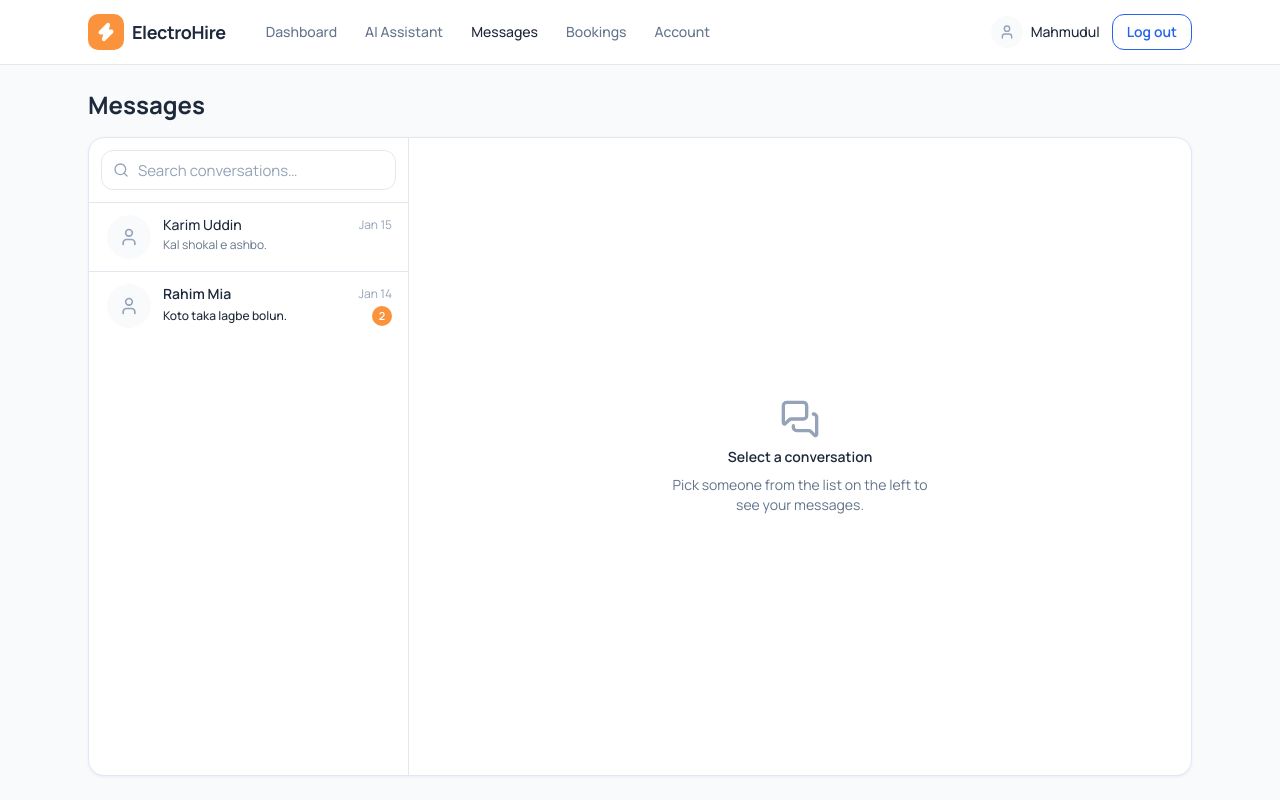
ChatsPage › sends a message and clears the composer
Click the button "Karim Uddin Jan 15 Kal shokal e ashbo.": click(248, 237) x1=89 y1=203 x2=408 y2=271
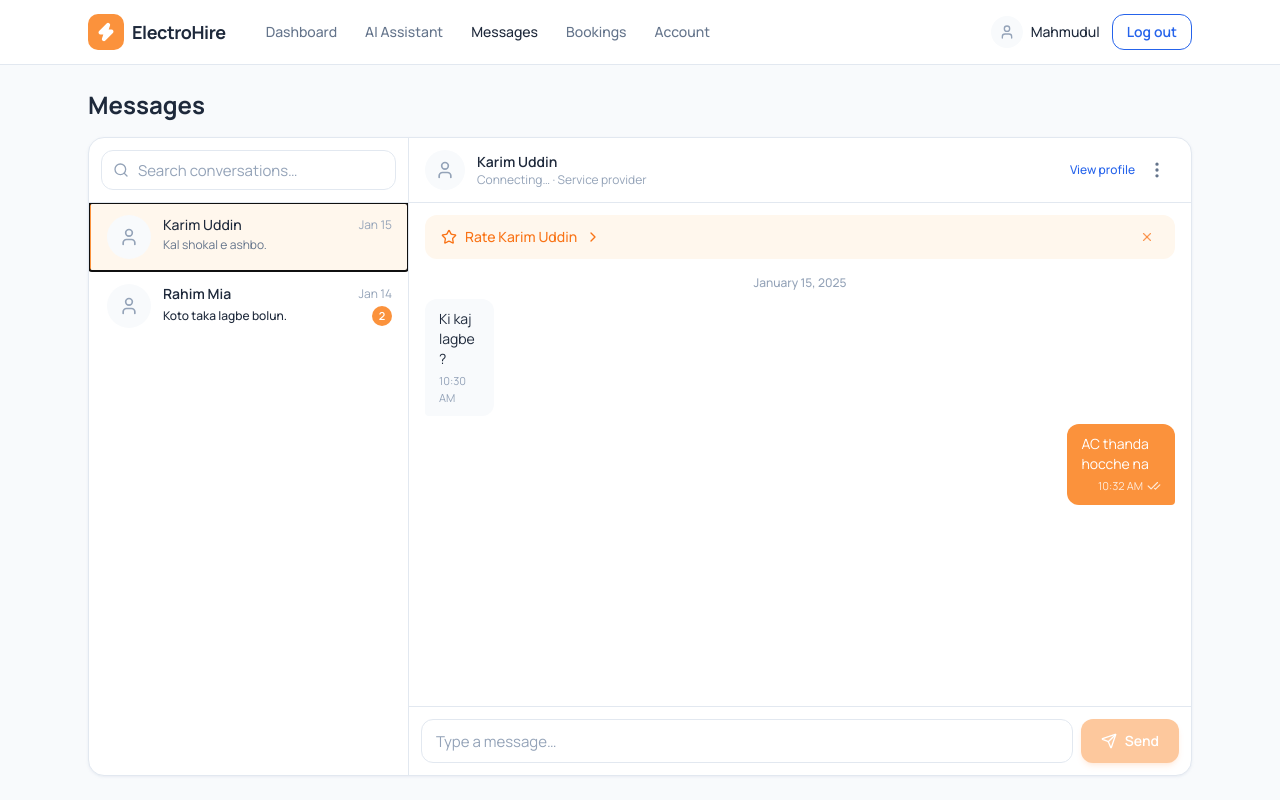
Check: the text "Ki kaj lagbe?" is shown, box x1=439 y1=309 x2=480 y2=369
In the field with placeholder "Type a message…": (747, 741) x1=421 y1=719 x2=1073 y2=763, type "Thank you!"
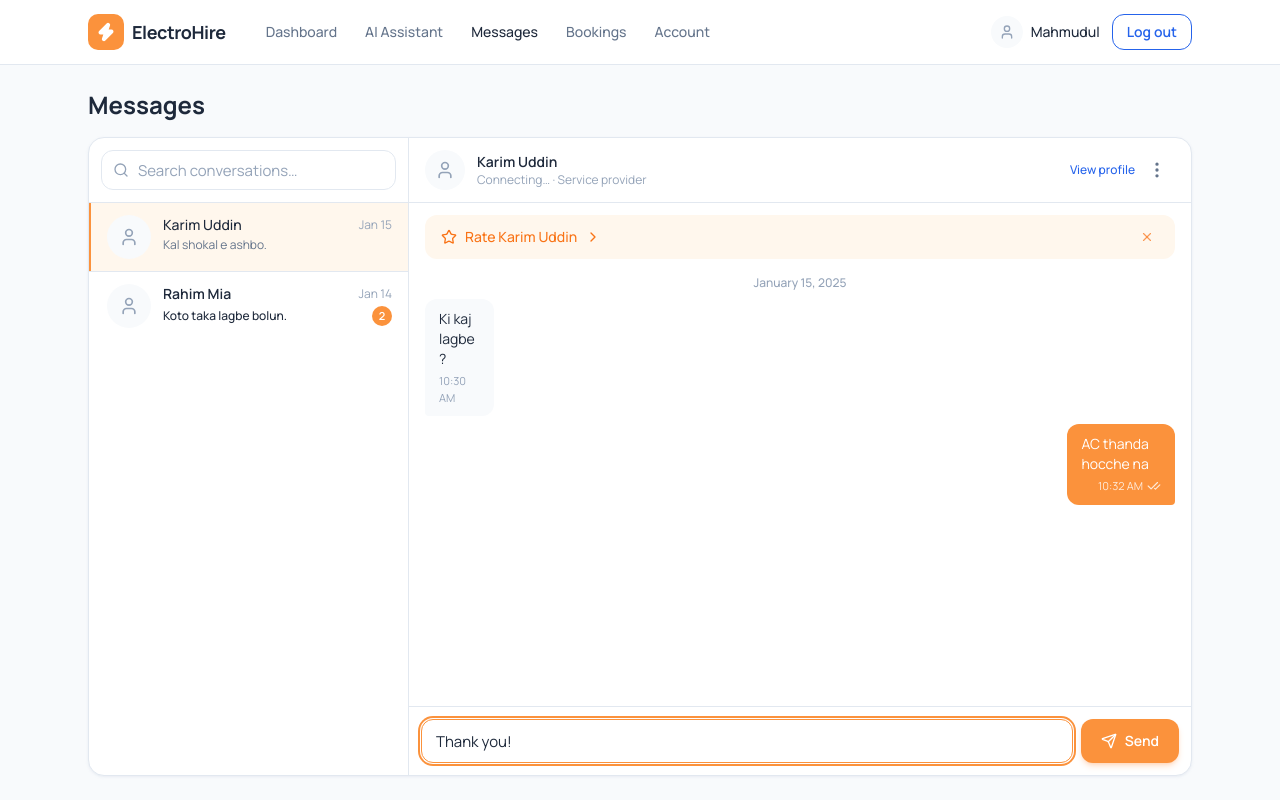
Click the button "Send": click(1130, 741) x1=1081 y1=719 x2=1179 y2=763
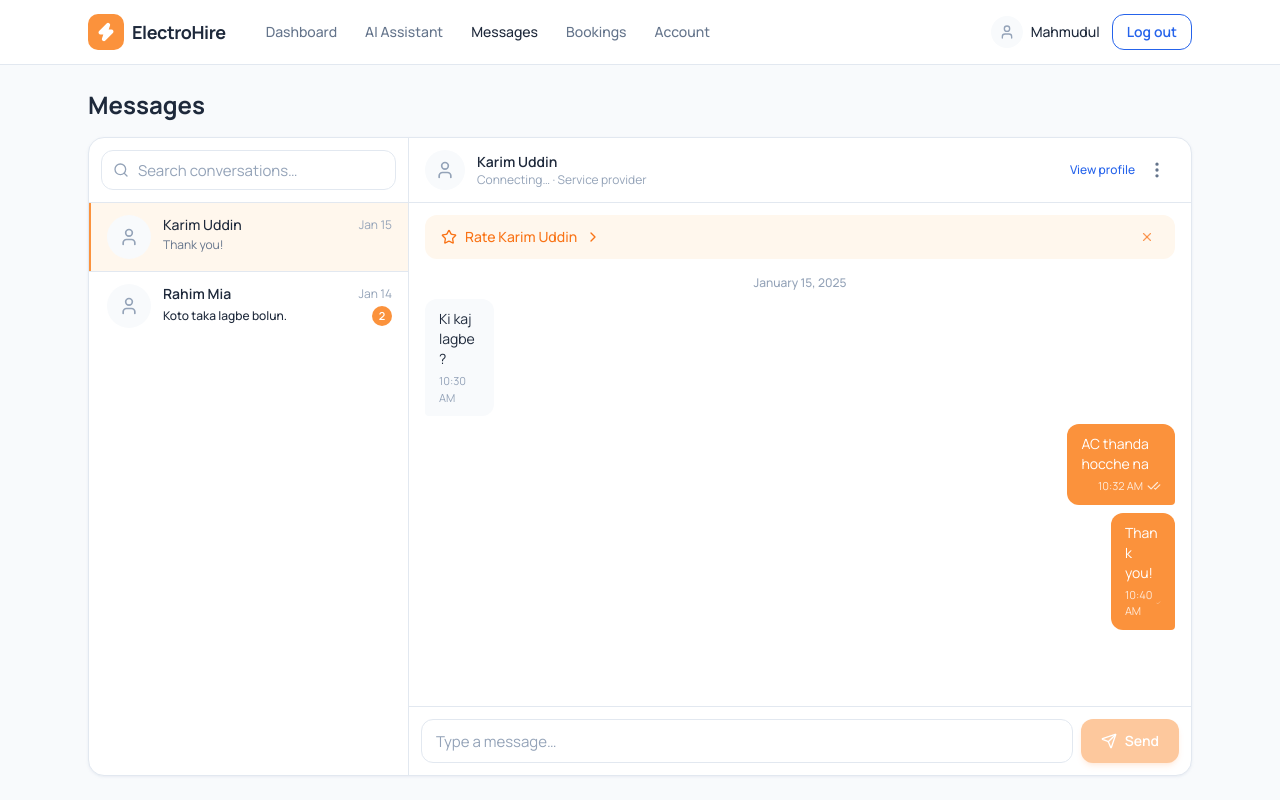
Check: the text "Thank you!" is shown 2 times, box x1=163 y1=237 x2=224 y2=253; x1=1125 y1=522 x2=1161 y2=582
Check: the field with placeholder "Type a message…" is empty, box x1=421 y1=719 x2=1073 y2=763
